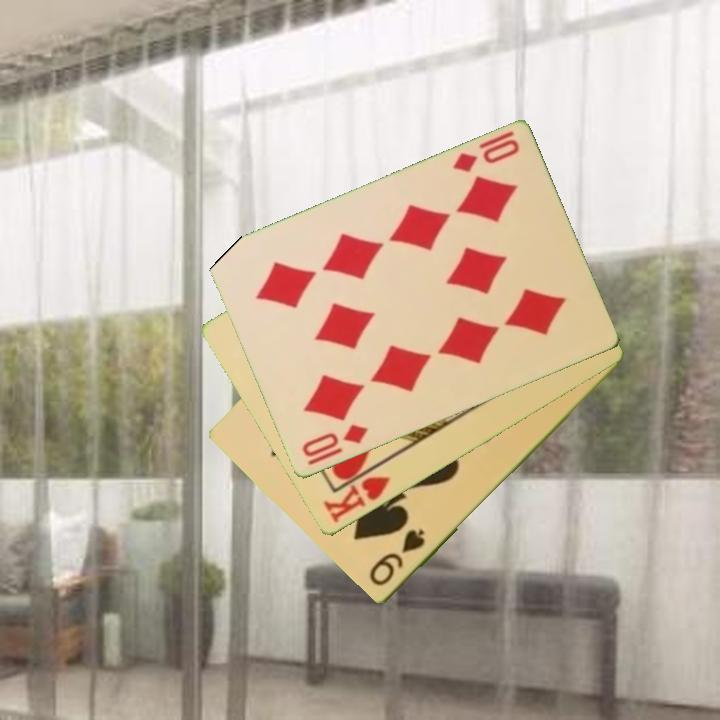10d: (449, 127, 522, 176), (298, 421, 371, 461)
9s: (366, 526, 429, 590)
Kh: (319, 459, 393, 526)
